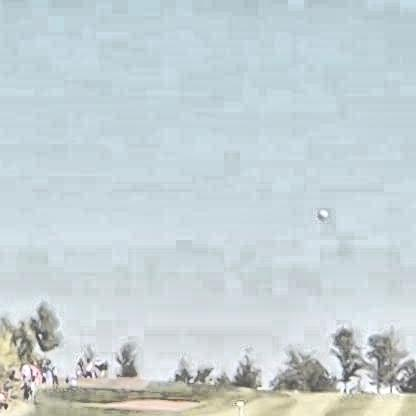golfball: (314, 206, 325, 217)
